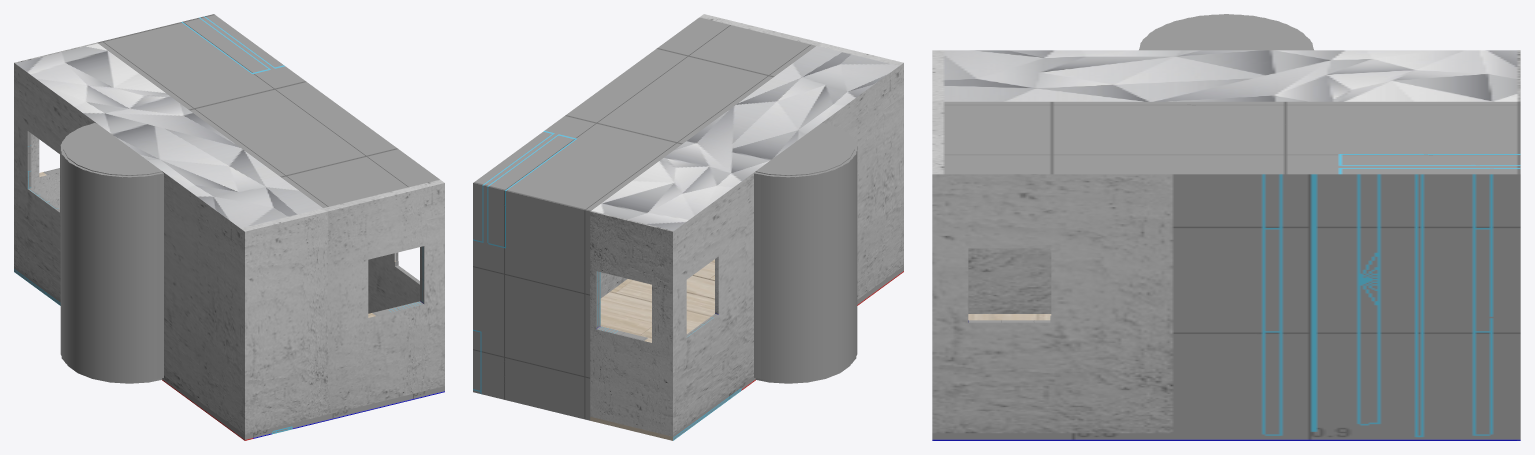
Rendered from IndoorBox.fbx.
3 views of the same model, side by side, from view 1: azimuth 30°, elevation 25°; view 2: azimuth 150°, elevation 25°; view 3: azimuth 270°, elevation 25° (orthographic). The views are drawn at different scales.
Visible parts, largest first — view 1: pCylinder3; view 2: pCylinder3; view 3: pCylinder3.
Boxes of the visible parts, <box> form: pCylinder3: <box>14,14,444,440</box>; pCylinder3: <box>473,14,903,440</box>; pCylinder3: <box>932,14,1520,440</box>.
Size of the model in its own units: 7.85 by 6.04 by 12.08.
